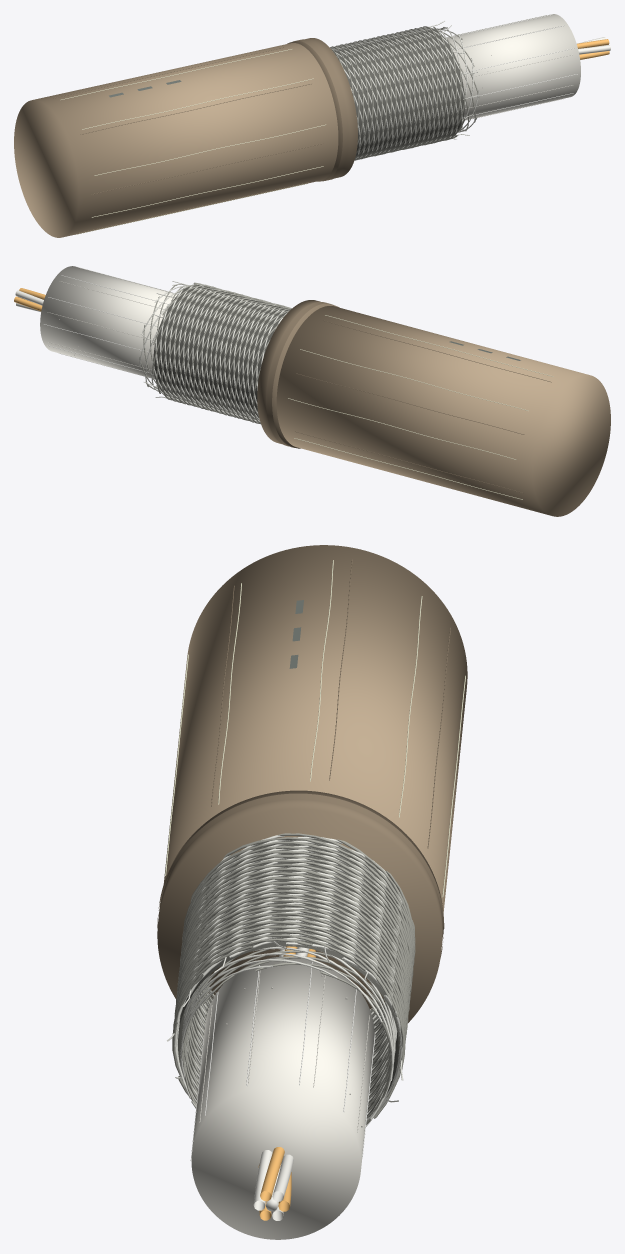
Rendered from rf-sucoflex501-macro.glb.
The picture shows the model from 3 angles, top to bottom: view 1: azimuth 30°, elevation 25°; view 2: azimuth 150°, elevation 25°; view 3: azimuth 270°, elevation 25°; orthographic projection. The views are drawn at different scales.
Visible parts, largest first — view 1: macro jacket body, macro dielectric exposed core, shadow seen through braid windows, thick jacket cut wall, rounded jacket cut lip, macro braid shadow carrier 04 strand 1, macro braid shadow carrier 05 strand 1, macro braid shadow carrier 07 strand 1, macro braid shadow carrier 06 strand 1, macro braid shadow carrier 08 strand 1, macro braid shadow carrier 03 strand 1, macro braid shadow carrier 12 strand 1 (+5 smaller); view 2: macro jacket body, macro dielectric exposed core, shadow seen through braid windows, thick jacket cut wall, rounded jacket cut lip, macro braid shadow carrier 02 strand 1, macro braid shadow carrier 03 strand 1, macro braid shadow carrier 12 strand 1, macro braid shadow carrier 01 strand 1, macro braid shadow carrier 04 strand 1, macro braid shadow carrier 11 strand 1, macro braid shadow carrier 07 strand 1 (+5 smaller); view 3: macro jacket body, macro dielectric exposed core, thick jacket cut wall, shadow seen through braid windows, rounded jacket cut lip, macro braid shadow carrier 10 strand 2, macro braid shadow carrier 04 strand 2, macro braid shadow carrier 05 strand 2, macro braid shadow carrier 11 strand 2, macro braid shadow carrier 07 strand 2, macro braid shadow carrier 08 strand 2, macro braid shadow carrier 09 strand 2 (+5 smaller).
Boxes of the visible parts, left/top/right/bottom form: macro jacket body: left=14, top=43, right=338, bottom=237; macro dielectric exposed core: left=446, top=14, right=580, bottom=120; shadow seen through braid windows: left=334, top=28, right=464, bottom=156; thick jacket cut wall: left=287, top=38, right=357, bottom=181; rounded jacket cut lip: left=292, top=39, right=348, bottom=181; macro braid shadow carrier 04 strand 1: left=353, top=29, right=433, bottom=159; macro braid shadow carrier 05 strand 1: left=356, top=28, right=438, bottom=160; macro braid shadow carrier 07 strand 1: left=364, top=26, right=447, bottom=158; macro braid shadow carrier 06 strand 1: left=361, top=27, right=442, bottom=159; macro braid shadow carrier 08 strand 1: left=369, top=26, right=452, bottom=157; macro braid shadow carrier 03 strand 1: left=349, top=30, right=428, bottom=157; macro braid shadow carrier 12 strand 1: left=335, top=33, right=465, bottom=152; macro jacket body: left=276, top=306, right=610, bottom=516; macro dielectric exposed core: left=40, top=266, right=177, bottom=378; shadow seen through braid windows: left=153, top=285, right=289, bottom=419; thick jacket cut wall: left=257, top=300, right=339, bottom=448; rounded jacket cut lip: left=266, top=302, right=333, bottom=447; macro braid shadow carrier 02 strand 1: left=166, top=291, right=286, bottom=416; macro braid shadow carrier 03 strand 1: left=161, top=290, right=283, bottom=415; macro braid shadow carrier 12 strand 1: left=175, top=293, right=291, bottom=418; macro braid shadow carrier 01 strand 1: left=170, top=292, right=291, bottom=417; macro braid shadow carrier 04 strand 1: left=156, top=289, right=281, bottom=413; macro braid shadow carrier 11 strand 1: left=180, top=295, right=289, bottom=419; macro braid shadow carrier 07 strand 1: left=162, top=285, right=263, bottom=423; macro jacket body: left=163, top=545, right=467, bottom=912; macro dielectric exposed core: left=191, top=956, right=374, bottom=1239; thick jacket cut wall: left=157, top=790, right=443, bottom=1022; shadow seen through braid windows: left=178, top=839, right=399, bottom=1115; rounded jacket cut lip: left=157, top=793, right=444, bottom=956; macro braid shadow carrier 10 strand 2: left=174, top=841, right=413, bottom=1027; macro braid shadow carrier 04 strand 2: left=176, top=868, right=410, bottom=1117; macro braid shadow carrier 05 strand 2: left=174, top=872, right=415, bottom=1068; macro braid shadow carrier 11 strand 2: left=172, top=846, right=413, bottom=1077; macro braid shadow carrier 07 strand 2: left=176, top=839, right=414, bottom=1007; macro braid shadow carrier 08 strand 2: left=174, top=833, right=413, bottom=1016; macro braid shadow carrier 09 strand 2: left=173, top=837, right=412, bottom=1026.
Bounding box in the file's own units: 6.46 × 1.46 × 1.58.
